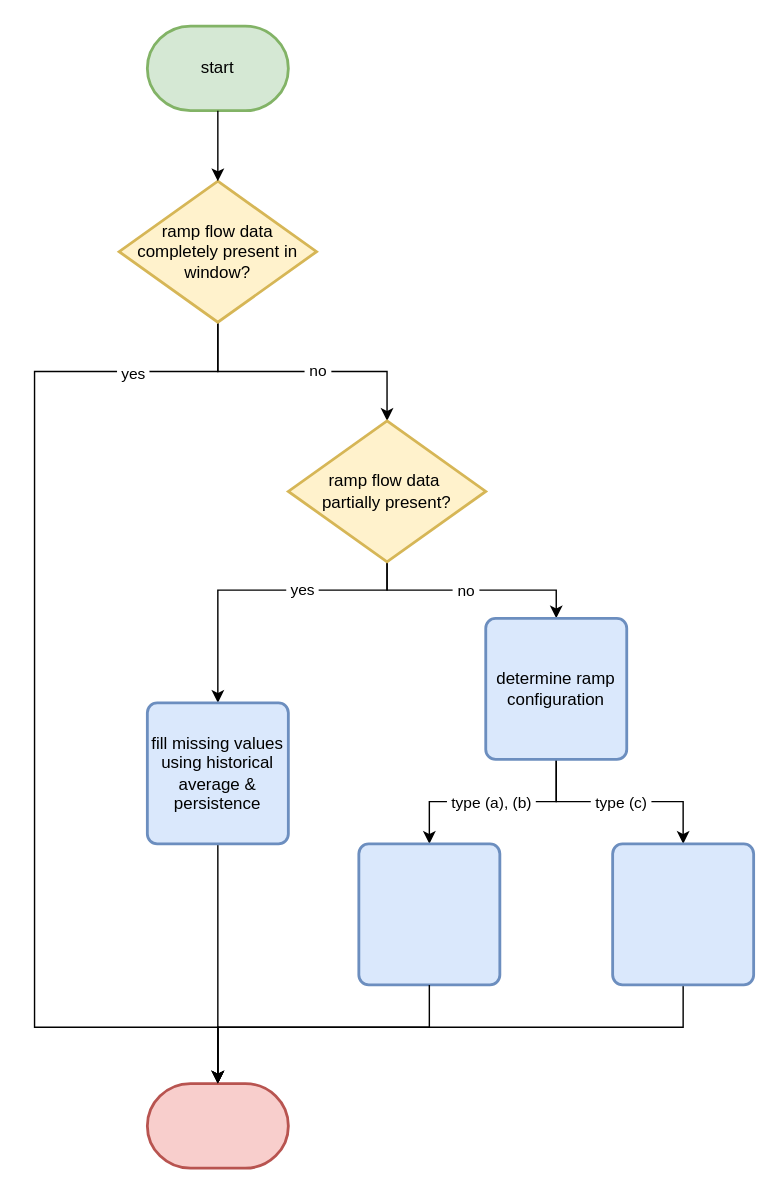
The diagram is 780 pixels wide and 1193 high, and some of its shapes have lost their labels. The centre of each missing label's shape, as x and y in pixels:
"fill missing values using flow conservation" belongs at pixel 429 914.
"fill missing values using trained estimator" belongs at pixel 682 914.
"stop" belongs at pixel 217 1125.
